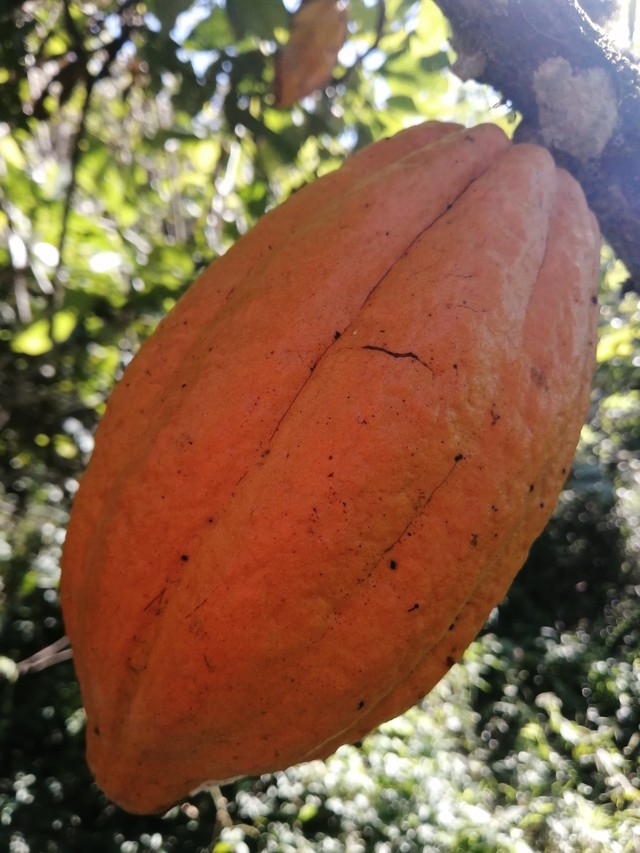Health: (40, 105, 612, 819)
